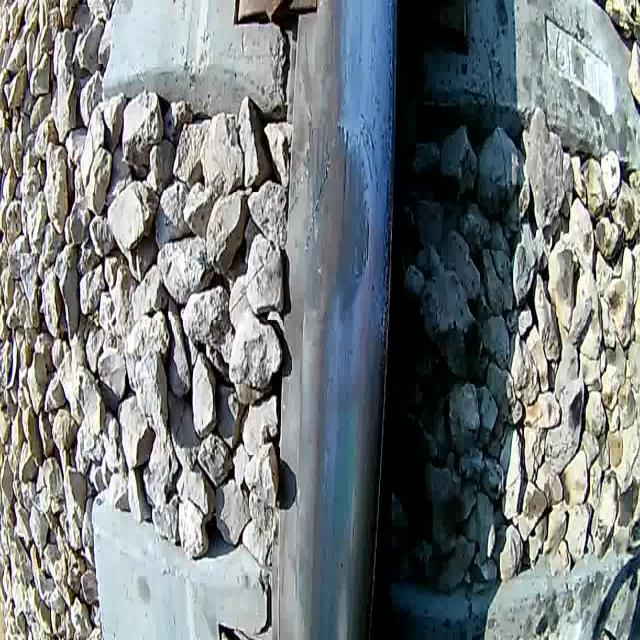Cracks: (305, 138, 334, 255), (360, 180, 375, 290)
Flakings: (377, 0, 401, 409)
Grooves: (341, 124, 353, 216)
Squats: (304, 120, 374, 330)
